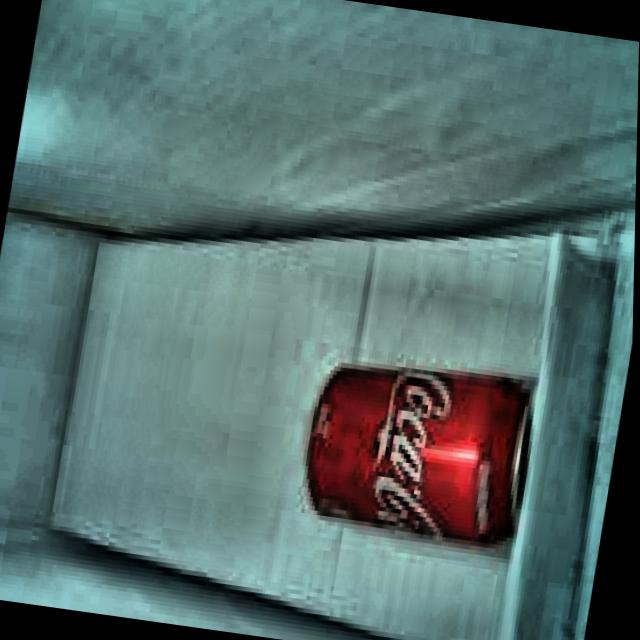Cans: (298, 350, 545, 554)
